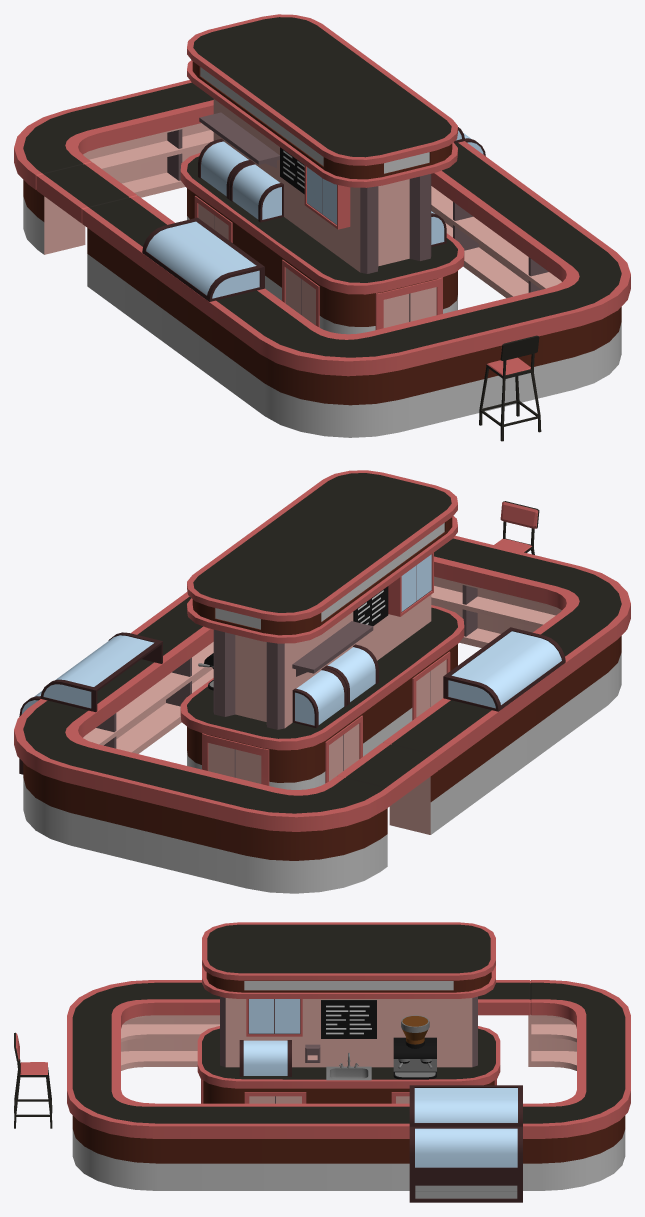
Rendered from Airport_Cafe.fbx.
The picture shows the model from 3 angles, top to bottom: view 1: azimuth 30°, elevation 25°; view 2: azimuth 150°, elevation 25°; view 3: azimuth 270°, elevation 25°; orthographic projection. The views are drawn at different scales.
Visible parts, largest first — view 1: 13.Cafe; view 2: 13.Cafe; view 3: 13.Cafe.
Part boxes in pixels (box(x1,y1,x2,y2)): 13.Cafe: box(14, 14, 630, 441); 13.Cafe: box(14, 470, 630, 893); 13.Cafe: box(14, 922, 630, 1202).
Size of what is drawn, in the model's own units: 691 by 356 by 1160.
1 material, 1 textured.
